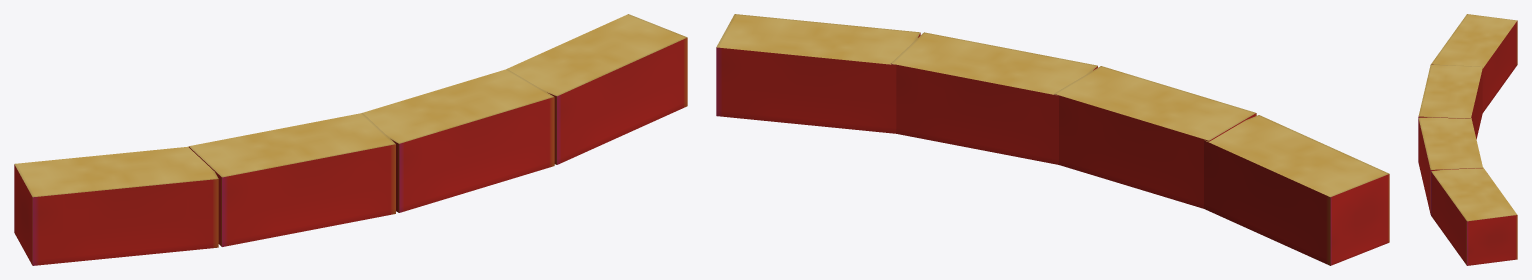
Rendered from ring_curb.obj.
3 renders of one model, left to right at view 1: azimuth 30°, elevation 25°; view 2: azimuth 150°, elevation 25°; view 3: azimuth 270°, elevation 25°, orthographic. The views are drawn at different scales.
Visible parts, largest first — view 1: ring_curb; view 2: ring_curb; view 3: ring_curb.
Part boxes in pixels (left/top/right/bottom): ring_curb: left=14, top=14, right=687, bottom=265; ring_curb: left=716, top=14, right=1389, bottom=265; ring_curb: left=1418, top=14, right=1517, bottom=265.
Bounding box in the file's own units: 2.79 × 0.284 × 0.5638.
Materials: 1 (1 with a texture image).
